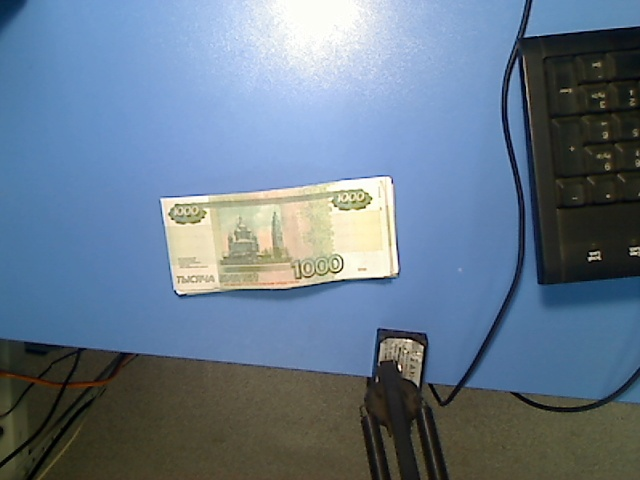banknotes: (161, 173, 401, 297)
